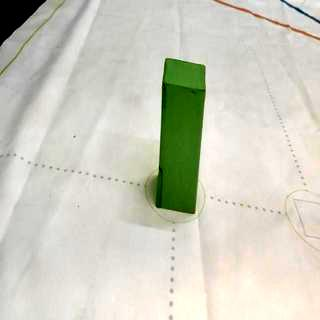greenbox: (159, 58, 206, 218)
